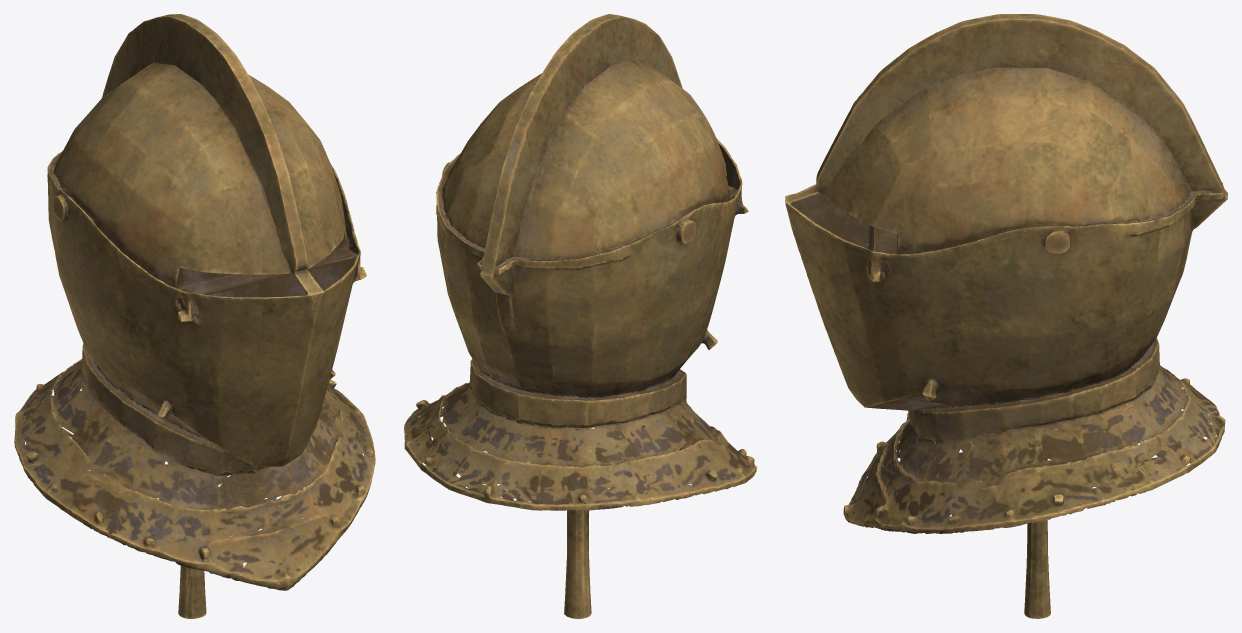
Rendered from Source.obj.
3 renders of one model, left to right at view 1: azimuth 30°, elevation 25°; view 2: azimuth 150°, elevation 25°; view 3: azimuth 270°, elevation 25°, orthographic. The views are drawn at different scales.
Parts seen in each view (by area): view 1: model; view 2: model; view 3: model.
Part boxes in pixels (bbox=[...]): model: bbox=[14, 14, 375, 618]; model: bbox=[404, 14, 756, 618]; model: bbox=[785, 14, 1227, 618].
Bounding box in the file's own units: 1.07 × 1.9 × 1.28.
1 material, 1 textured.
